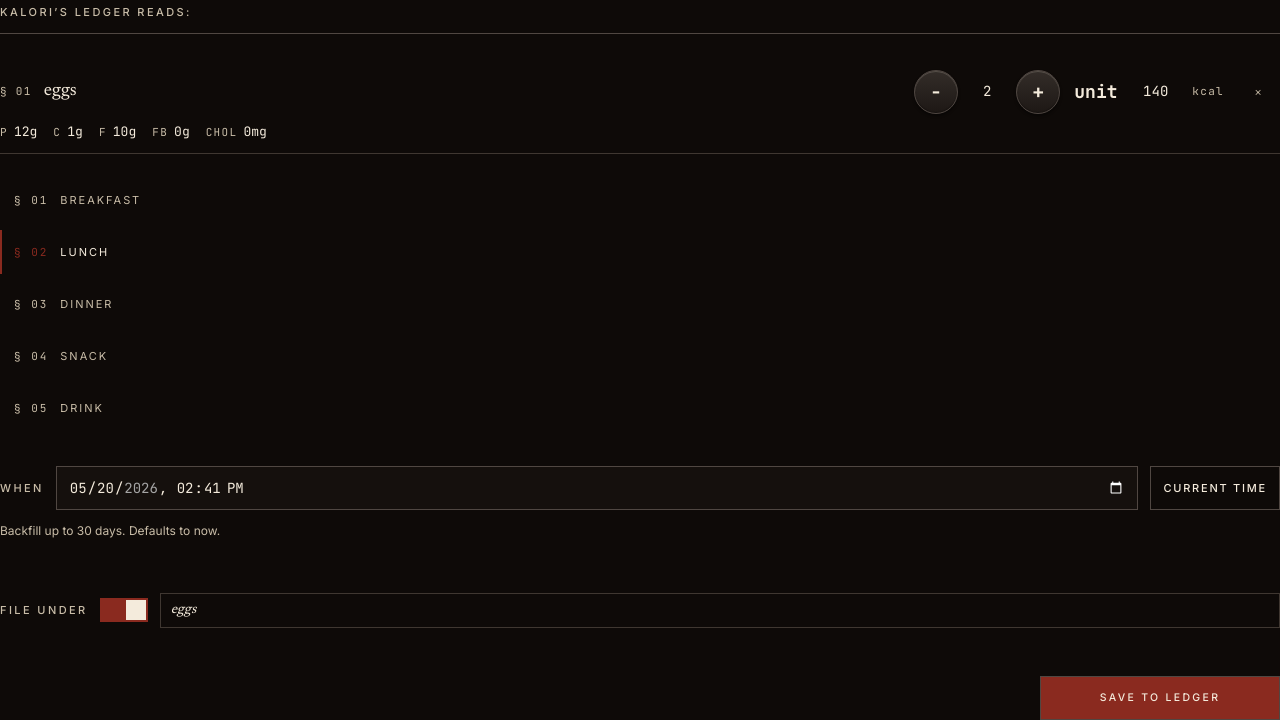
Test: <ConfirmationScreen /> › shows error banner with Retry on save failure
(page scrolled)
Click the button with test id "confirmation-save" at (1160, 698), box [1040,676,1279,719]
(page scrolled)
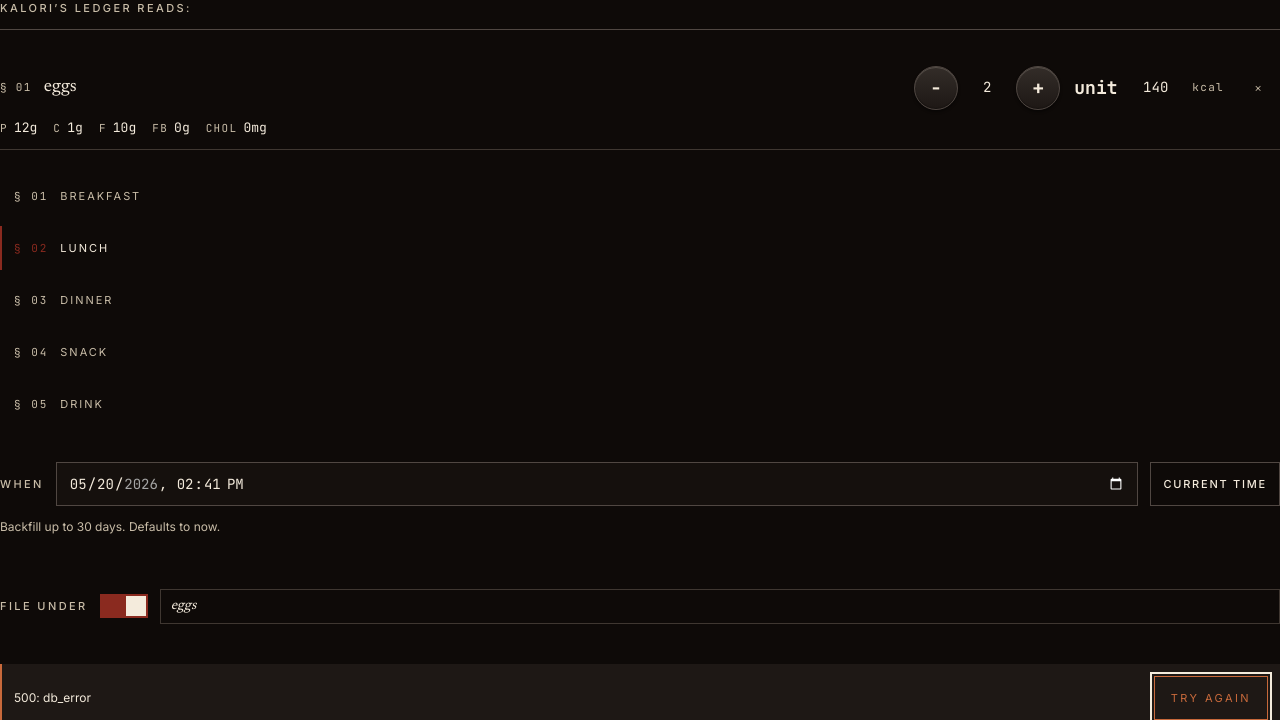
expect the button with test id "confirmation-retry" is shown: met, box [1154,676,1268,719]
